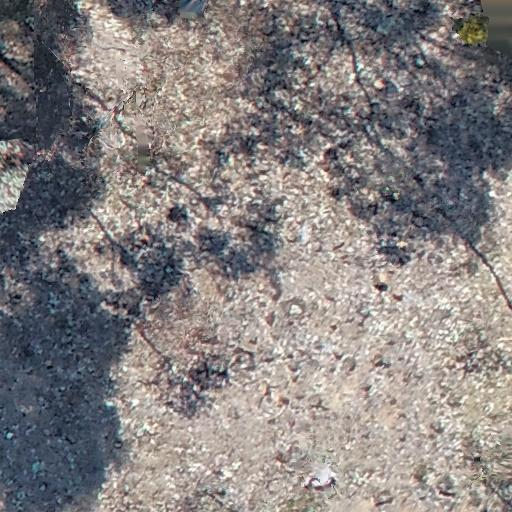stone: (374, 271, 388, 290), (342, 356, 357, 371), (371, 352, 385, 368), (310, 396, 324, 410), (276, 393, 290, 406), (284, 361, 300, 372), (264, 310, 275, 326), (260, 382, 271, 395), (431, 420, 442, 432), (334, 344, 343, 358), (311, 242, 323, 252), (394, 291, 402, 300), (287, 233, 294, 242)
